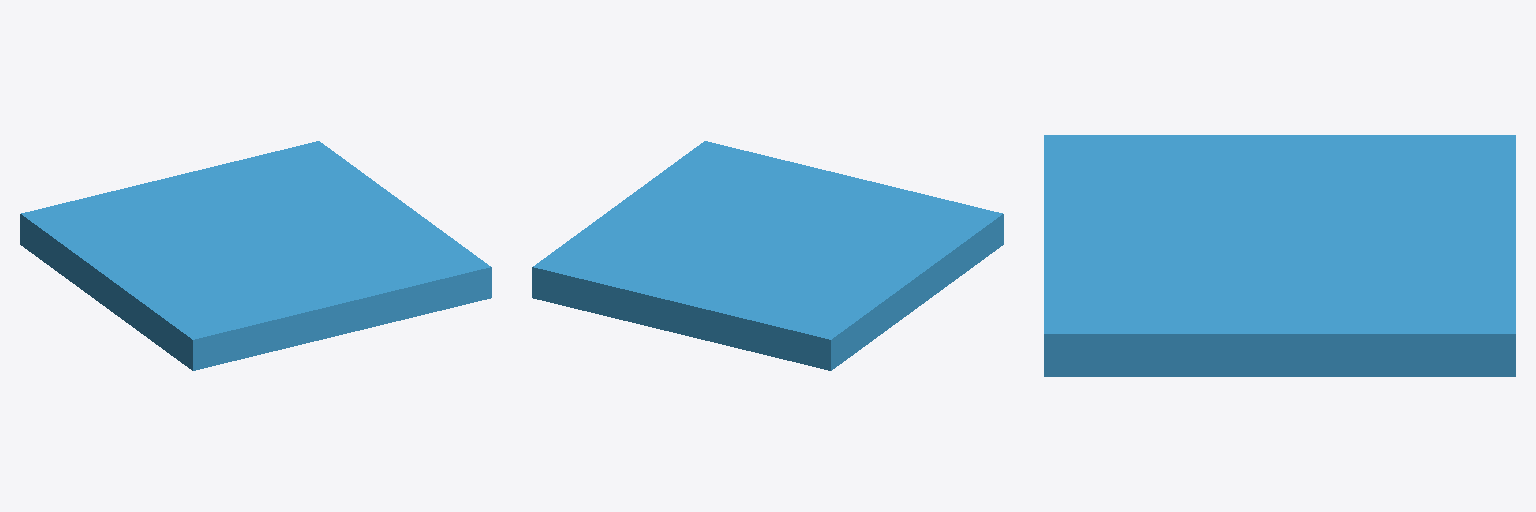
The robot description file, URDF, robot "table_surface":
<?xml version="1.0"?>
<robot name="table_surface">
  <link name="world" />

  <gazebo reference="table">
    <mu1>0.1</mu1>
    <mu2>0.1</mu2>
    <kp>10000000</kp>
    <kd>1</kd>
    <minDepth>0.001</minDepth>
  </gazebo>

  <link name="table">
    <visual>
      <geometry>
	<box size="0.5 0.5 0.05" />
      </geometry>
    </visual>
    <collision>
      <geometry>
	<box size="0.5 0.5 0.05" />
      </geometry>
    </collision>
    <inertial>
      <mass value="100" />
      <inertia ixx="100" ixy="0" ixz="0" iyy="100" iyz="0" izz="100" />
    </inertial>
  </link>

  <joint name="fixed" type="fixed">
    <origin rpy="0 0 0" xyz="0.8 0 0.4" />
    <parent link="world" />
    <child link="table" />
  </joint>


  <gazebo reference="table">
  <material>Gazebo/Wood</material>
  </gazebo>

</robot>

--- Render facts (derived) ---
Views: 3 orthographic renders of the robot side by side, from view 1: azimuth 30°, elevation 25°; view 2: azimuth 150°, elevation 25°; view 3: azimuth 270°, elevation 25°.
Robot: table_surface — 2 links, 1 joints (1 fixed); root link world; default pose: all joints at 0.
Links seen in each view (by area): view 1: table; view 2: table; view 3: table.
Link boxes in pixels (left/top/right/bottom): table: left=20, top=141, right=491, bottom=370; table: left=532, top=141, right=1003, bottom=370; table: left=1044, top=135, right=1515, bottom=376.
Size in the robot's own frame: 0.5 by 0.5 by 0.05 metres.
Geometry: primitives only (box / cylinder / sphere), no mesh files.